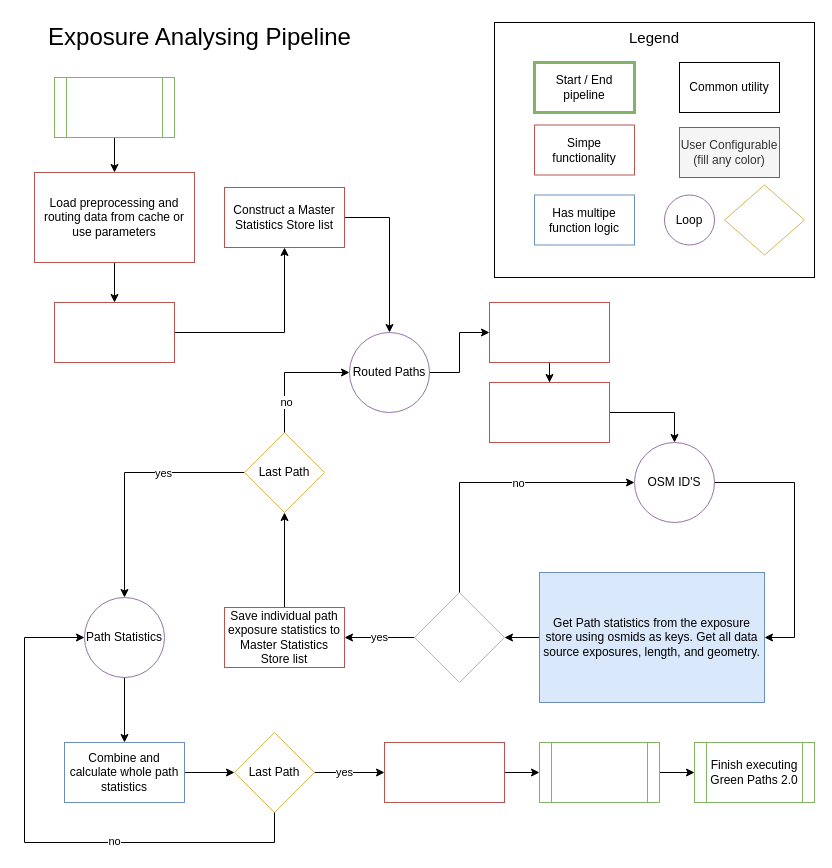
Some shapes in this 832 by 868 pixel diagram are drawn without their labels. Each missing label, with the centre of its shape:
"Conditional" goes at point 764,219.
"End: Exposure Analysing" goes at point 599,772.
"Get and validate OSMID's from path" goes at point 549,412.
"Initialize a Dictionary with correct keys (optional Geometry)" goes at point 549,332.
"Initialize ExposureCalculator class" goes at point 114,332.
"Last OSMID" goes at point 459,637.
"Save final combined statistics results" goes at point 444,772.
"Start: Exposure Analysing" goes at point 114,107.
